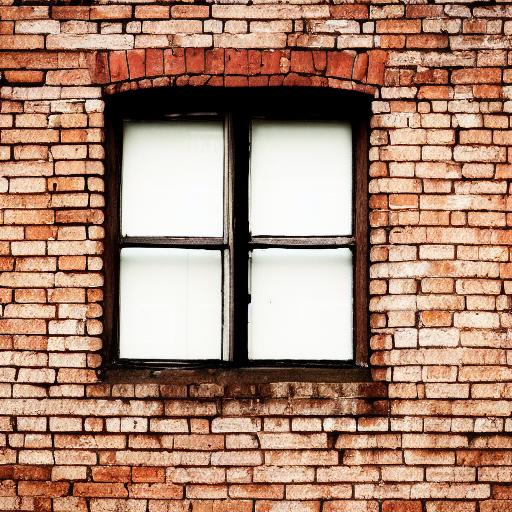Window: (97, 49, 383, 390)
